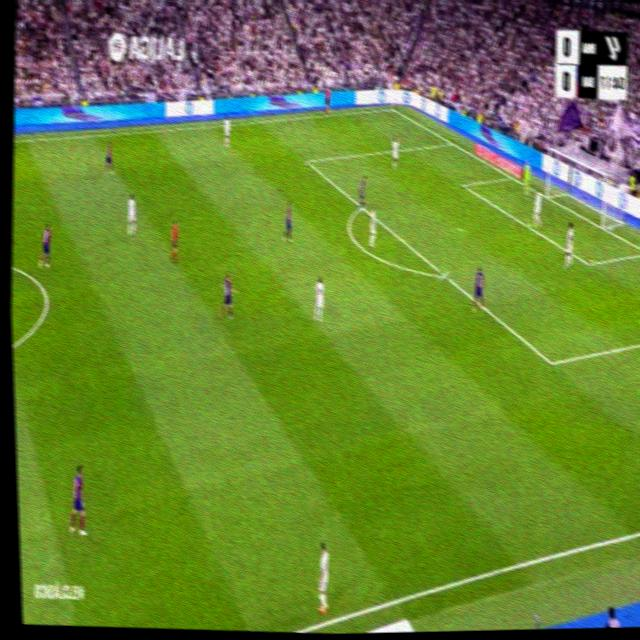bigarea_bottom_inner: (546, 351, 559, 373)
bigarea_top_inner: (304, 154, 311, 166)
bigarea_top_outter: (447, 137, 455, 147)
bottom_arc_area_intersection: (438, 266, 450, 282)
corner: (389, 105, 395, 112)
smallarea_bottom_inner: (583, 256, 594, 271)
smallarea_top_inner: (462, 180, 467, 189)
top_arc_area_intersection: (358, 200, 366, 212)
